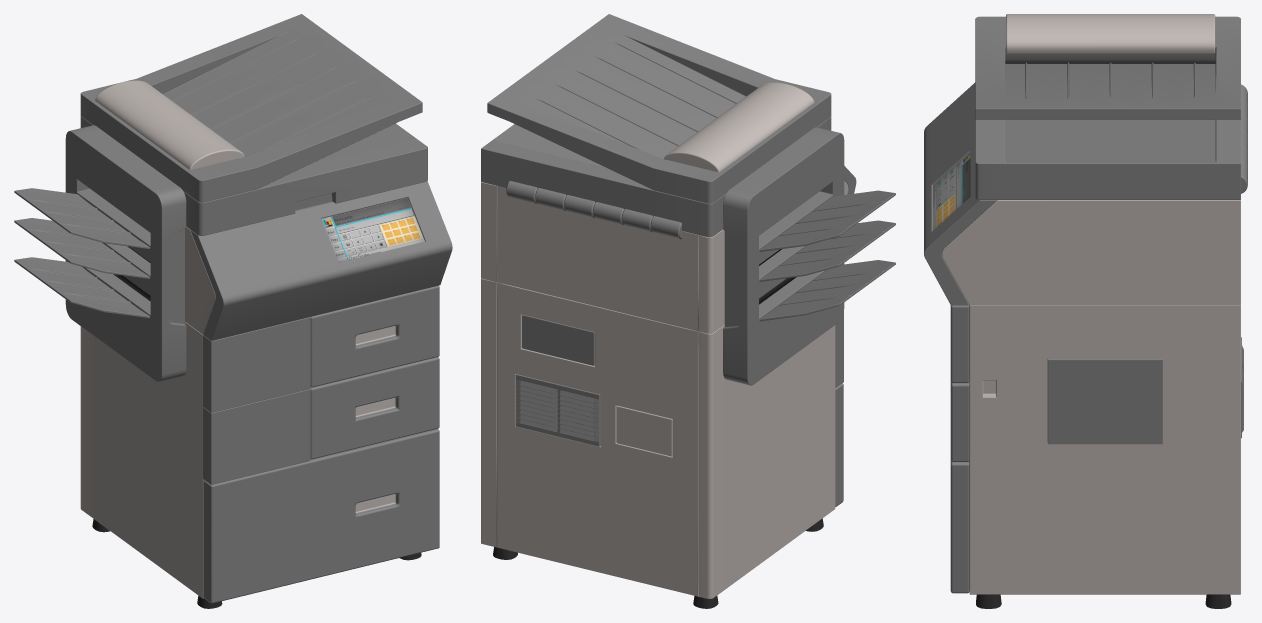
File: Printer.fbx
3 views of the same model, side by side, from view 1: azimuth 30°, elevation 25°; view 2: azimuth 150°, elevation 25°; view 3: azimuth 270°, elevation 25° (orthographic). The views are drawn at different scales.
Visible parts, largest first — view 1: Printer Body; view 2: Printer Body; view 3: Printer Body.
Boxes of the visible parts, x1,y1,x2,y2 form: Printer Body: (14, 14, 452, 608); Printer Body: (481, 14, 895, 608); Printer Body: (924, 14, 1247, 608).
Bounding box in the file's own units: 0.7149 × 1.22 × 0.9169.
